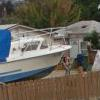Boat: (2, 19, 76, 86)
